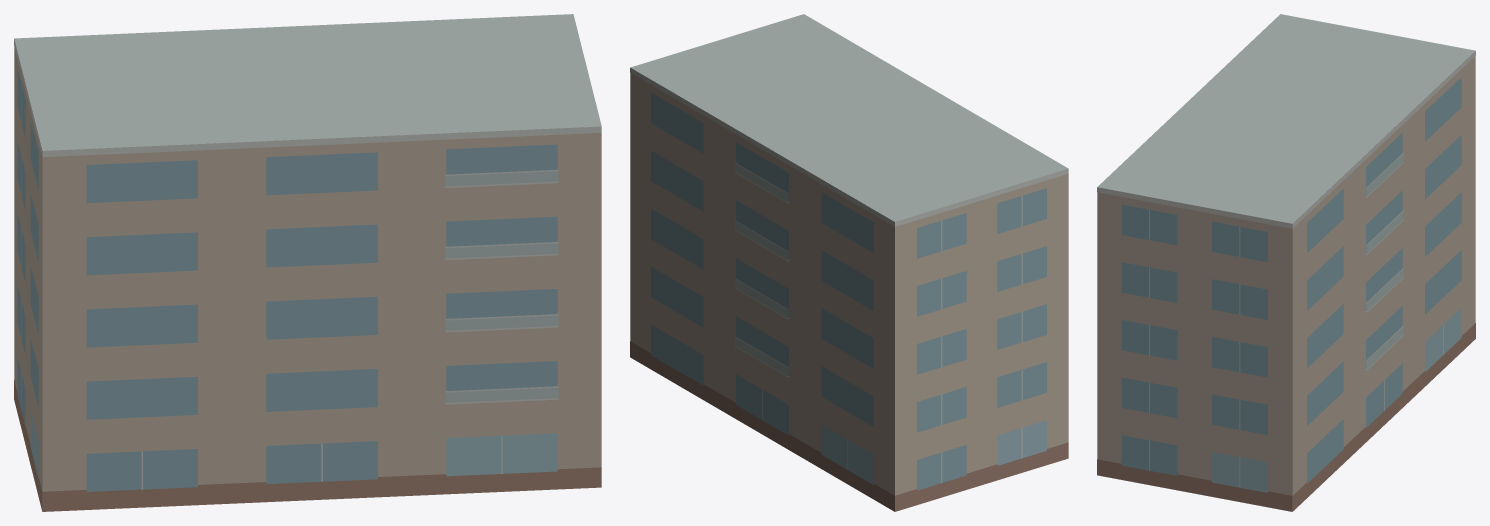
Rendered from survey-upis-32656822.glb.
3 views of the same model, side by side, from view 1: azimuth 30°, elevation 25°; view 2: azimuth 150°, elevation 25°; view 3: azimuth 270°, elevation 25° (orthographic). The views are drawn at different scales.
Parts seen in each view (by area): view 1: survey-upis-32656822.tmp; view 2: survey-upis-32656822.tmp; view 3: survey-upis-32656822.tmp.
Part boxes in pixels (x1,y1,x2,y2): survey-upis-32656822.tmp: (14,14,601,511); survey-upis-32656822.tmp: (630,14,1068,511); survey-upis-32656822.tmp: (1097,14,1475,511).
Bounding box in the file's own units: 21.87 × 14 × 16.68.
